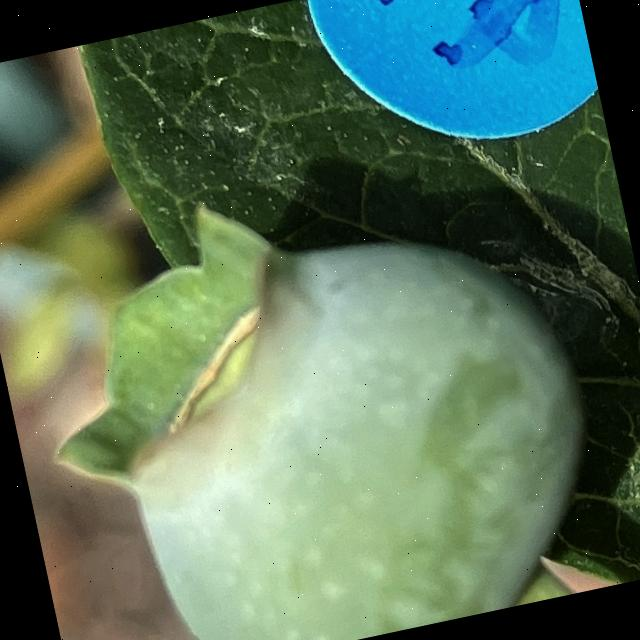Blueberries: (11, 132, 622, 640)
